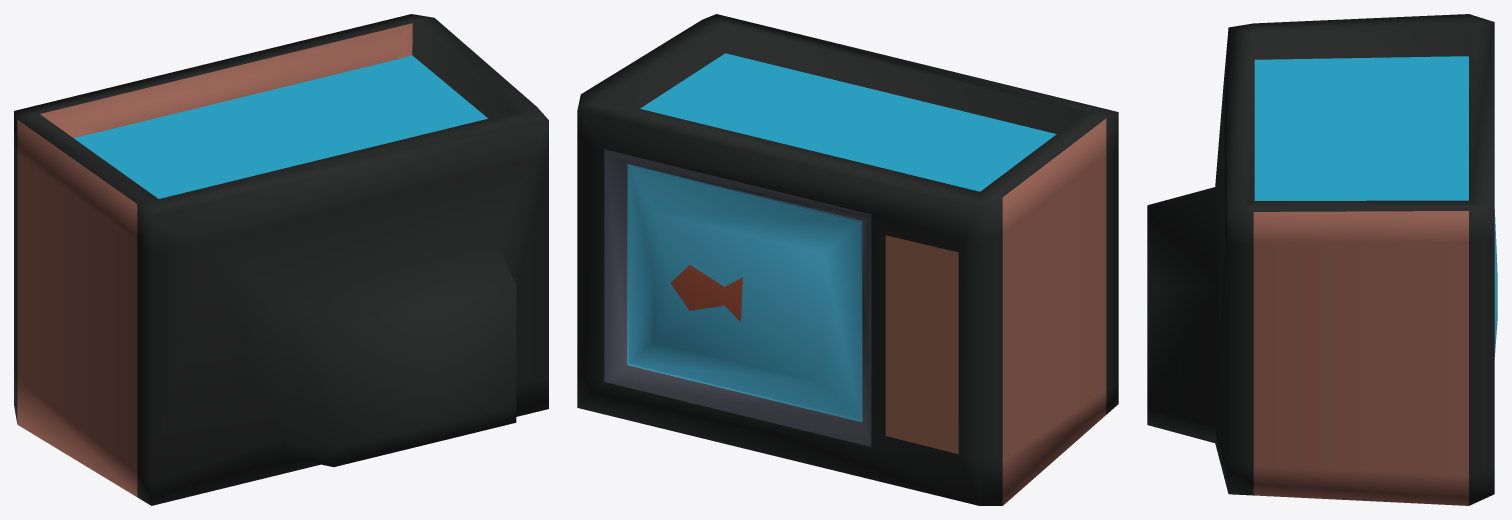
File: aquarium.fbx
3 views of the same model, side by side, from view 1: azimuth 30°, elevation 25°; view 2: azimuth 150°, elevation 25°; view 3: azimuth 270°, elevation 25° (orthographic). The views are drawn at different scales.
Visible parts, largest first — view 1: Cube.016; view 2: Cube.016; view 3: Cube.016.
Boxes of the visible parts, x1,y1,x2,y2 form: Cube.016: (14, 14, 548, 505); Cube.016: (577, 14, 1118, 505); Cube.016: (1147, 14, 1497, 505).
Size of the model in its own units: 136 by 95.12 by 102.
